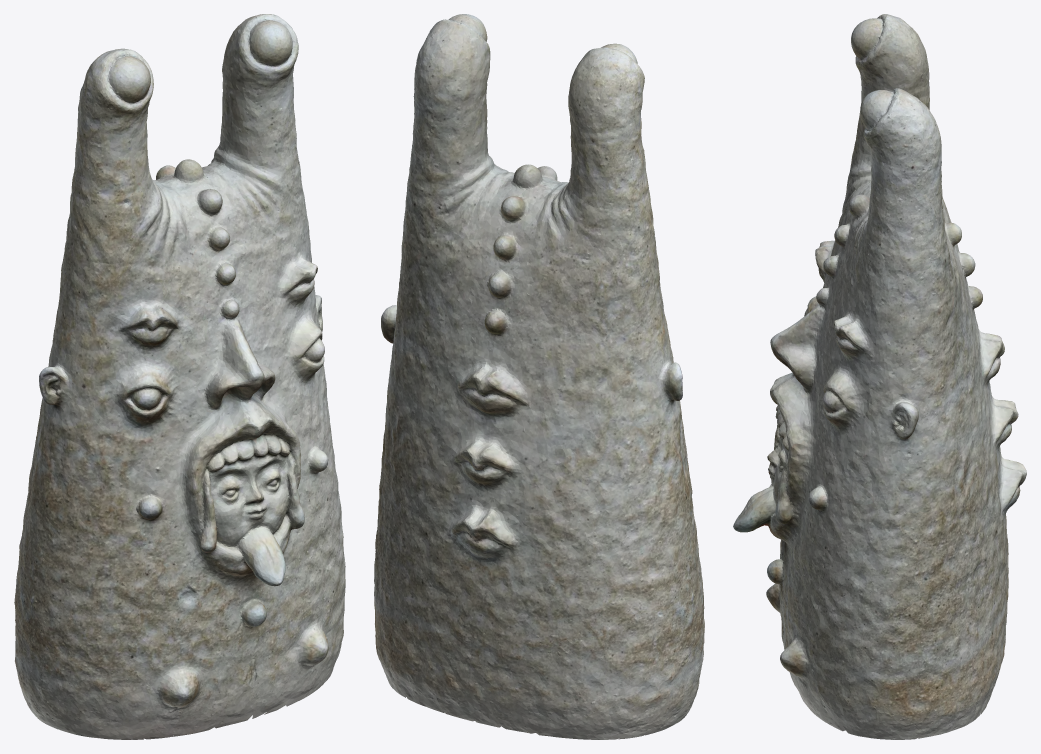
Rendered from nin.glb.
3 renders of one model, left to right at view 1: azimuth 30°, elevation 25°; view 2: azimuth 150°, elevation 25°; view 3: azimuth 270°, elevation 25°, orthographic. The views are drawn at different scales.
Size of the model in its own units: 0.6718 by 1.37 by 0.5832.
Materials: 1 (1 with a texture image).
